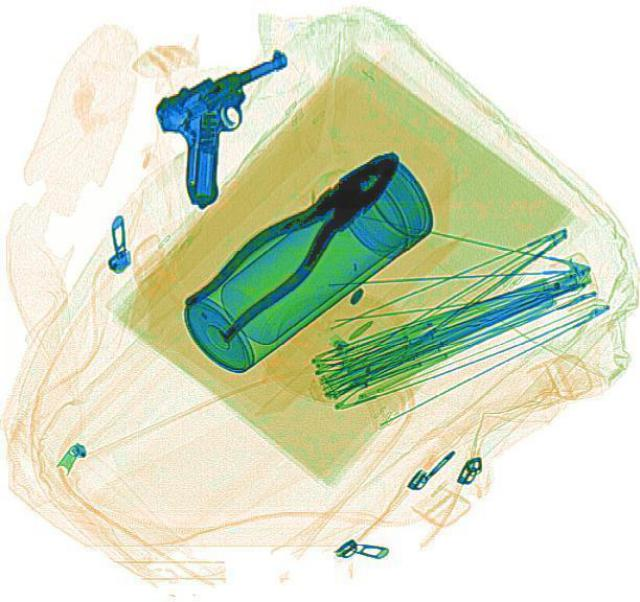Gun: (133, 44, 341, 211)
Pliers: (174, 131, 422, 346)
